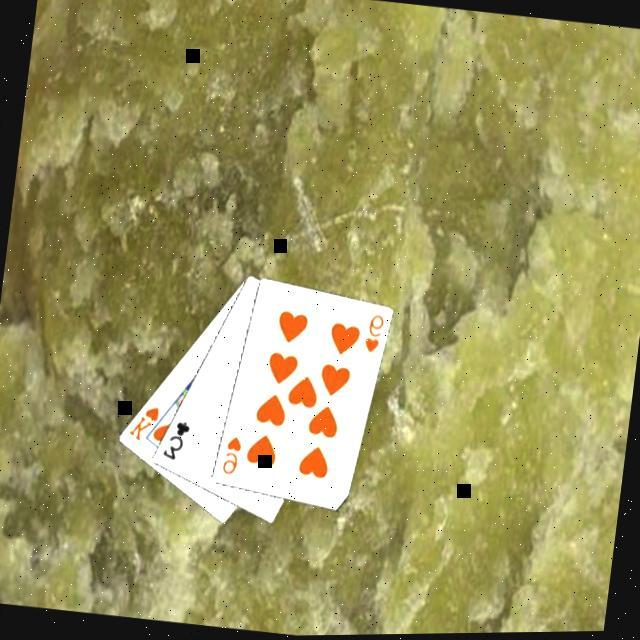3C: (160, 417, 195, 466)
9H: (220, 434, 247, 480), (361, 312, 388, 358)
KH: (126, 401, 165, 447)
